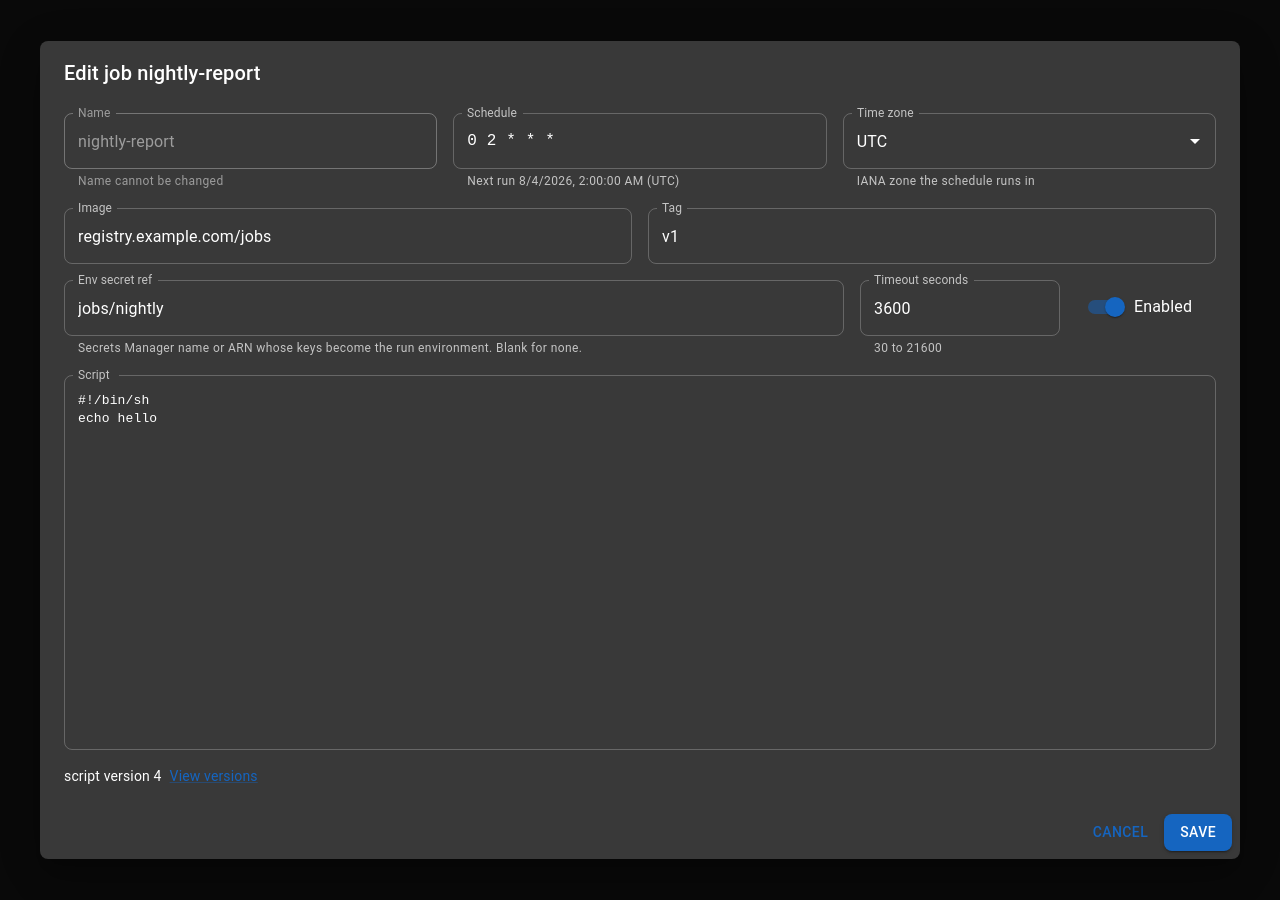
it: JobFormDialog edit › requires image and tag on edit
The image size is (1280, 900).
Expected: the text box labelled "Script" is shown, [78,392,1202,734]
Clear the field labelled "Image". click: point(348, 236)
box: [64,208,632,264]
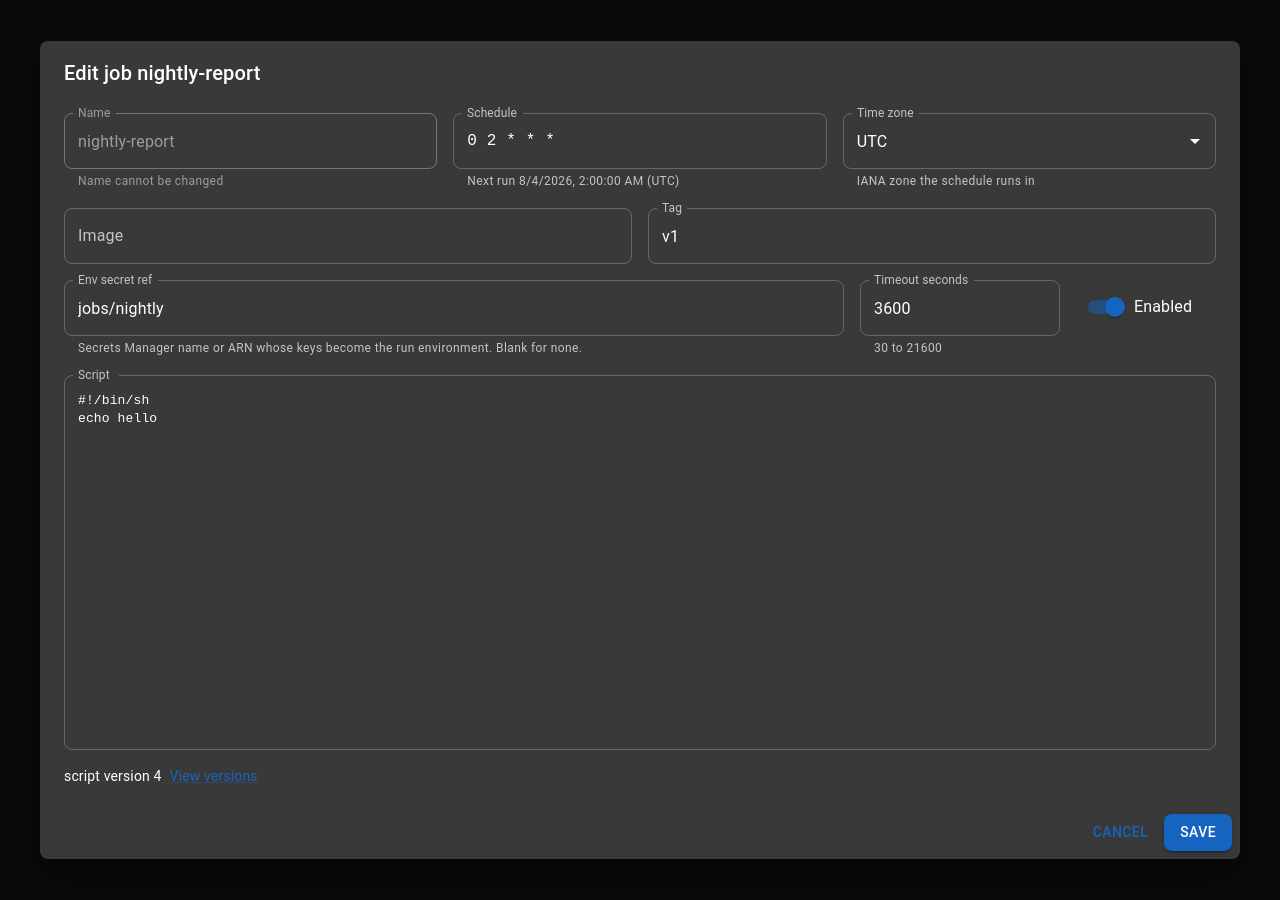
Click the button "Save". click: point(1198, 832)
box: [1164,814,1232,851]
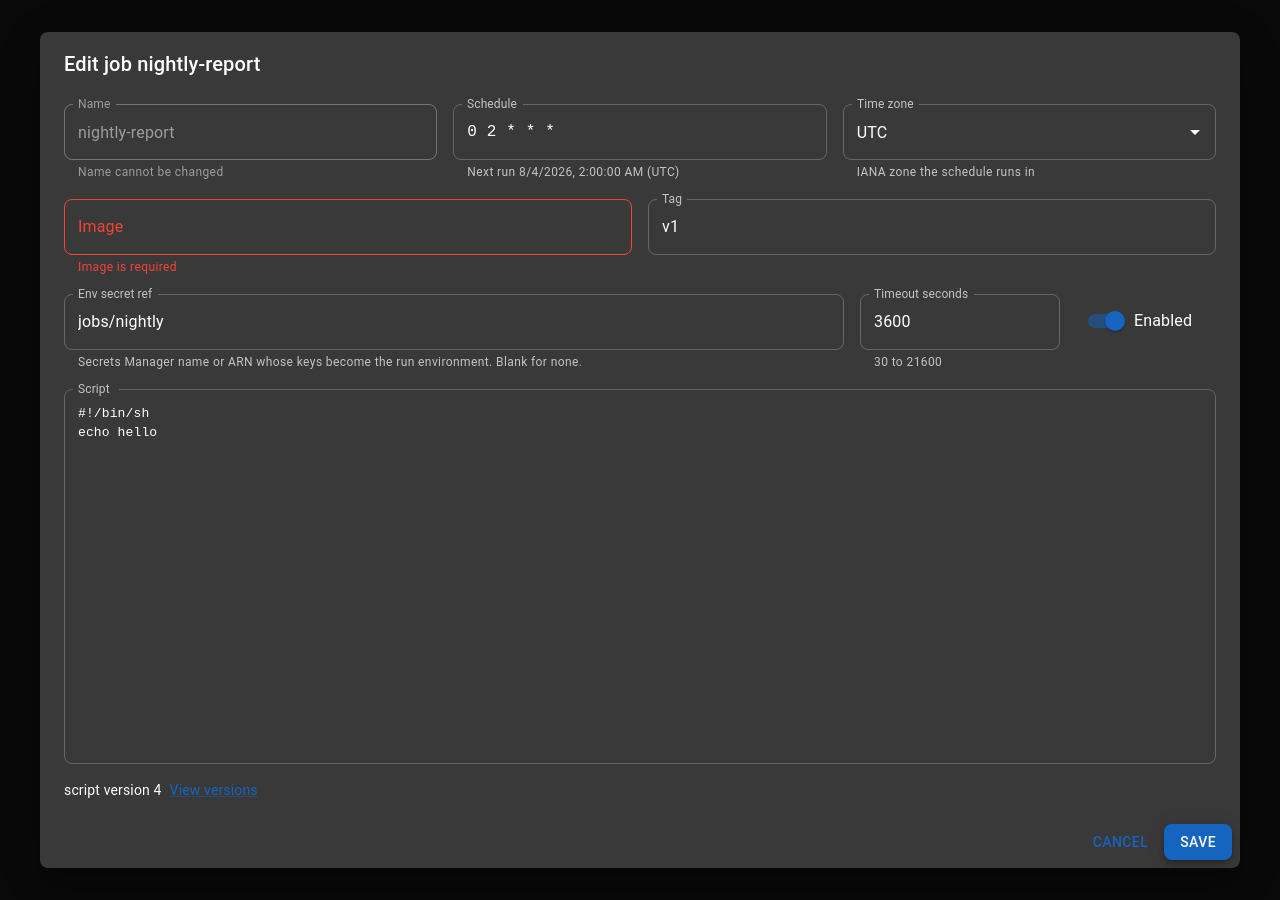
Expected: the text "Image is required" is shown, [78,260,177,274]
